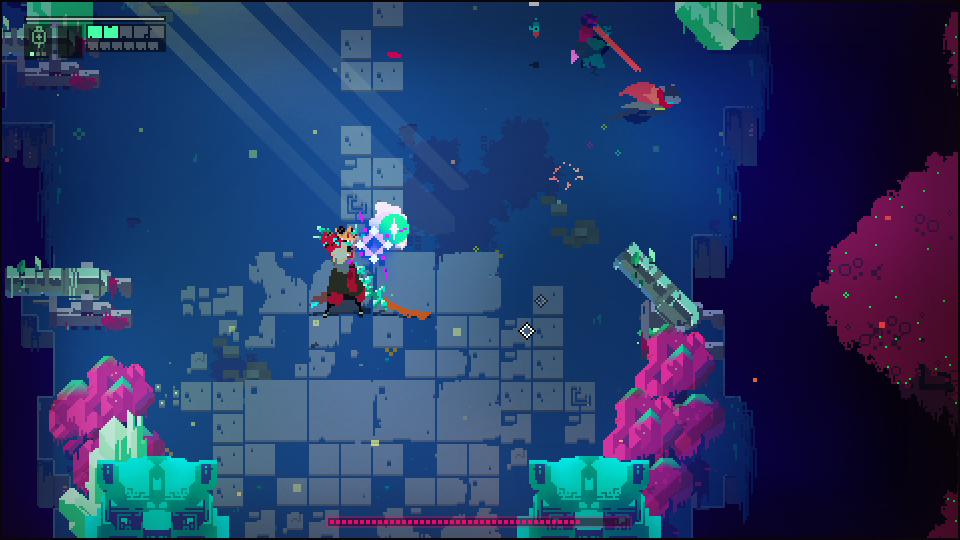hanged_man: (310, 220, 401, 325)
hanged_shot: (377, 210, 411, 249)
player: (615, 79, 683, 122)
